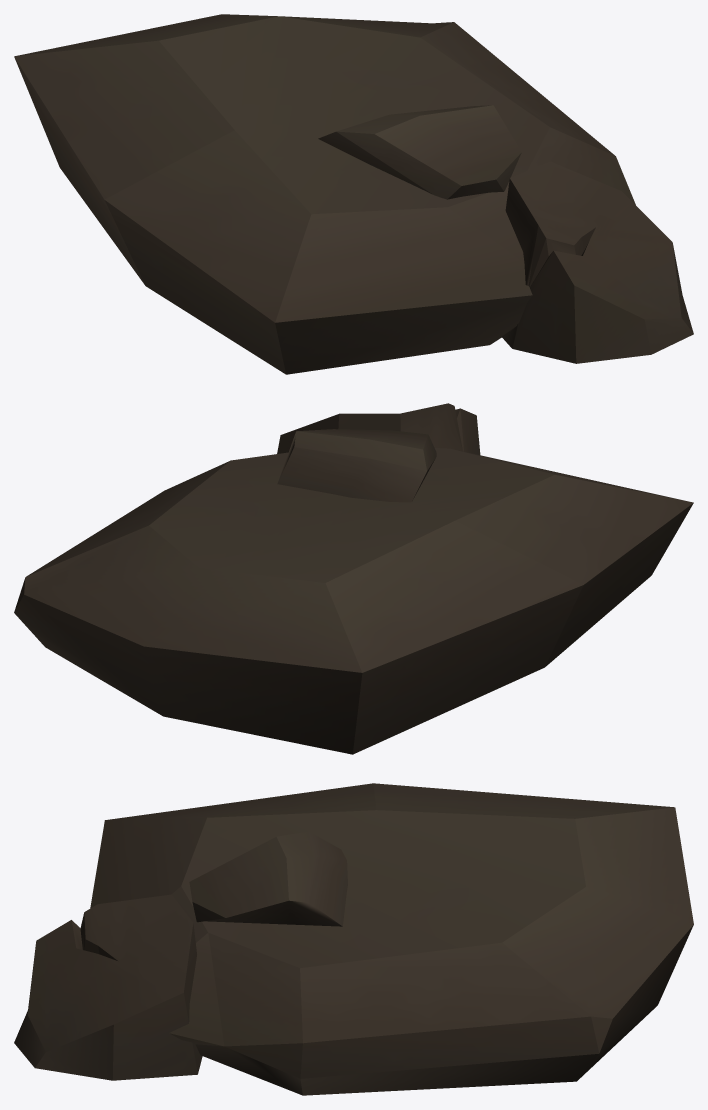
The model's file is LandMass_D.fbx.
The picture shows the model from 3 angles, top to bottom: view 1: azimuth 30°, elevation 25°; view 2: azimuth 150°, elevation 25°; view 3: azimuth 270°, elevation 25°; orthographic projection. The views are drawn at different scales.
Parts seen in each view (by area): view 1: LandMass_D; view 2: LandMass_D; view 3: LandMass_D.
Boxes of the visible parts, left/top/right/bottom form: LandMass_D: left=14, top=14, right=693, bottom=374; LandMass_D: left=14, top=403, right=693, bottom=754; LandMass_D: left=14, top=783, right=693, bottom=1095.
Size of the model in its own units: 3546 by 4594 by 1086.
Materials: 1 (1 with a texture image).
